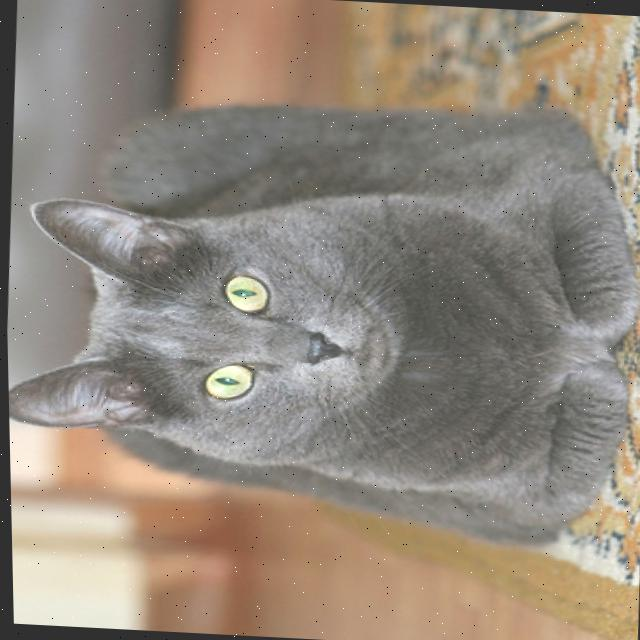Russian Blue: (1, 80, 640, 555)
